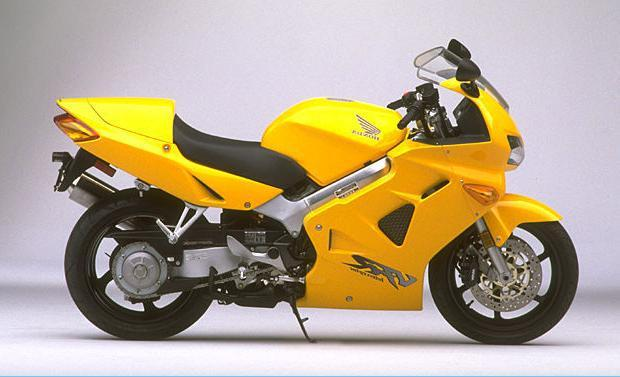motorcycle: (30, 20, 597, 350)
